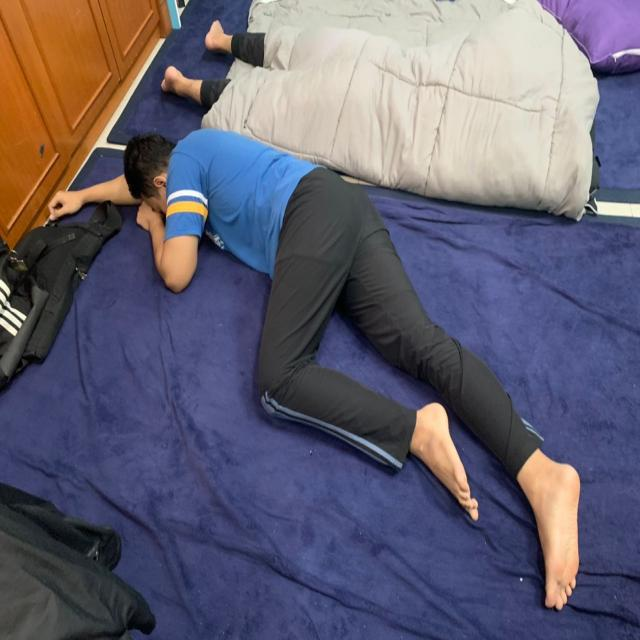Fall-Detected: (49, 134, 581, 608)
